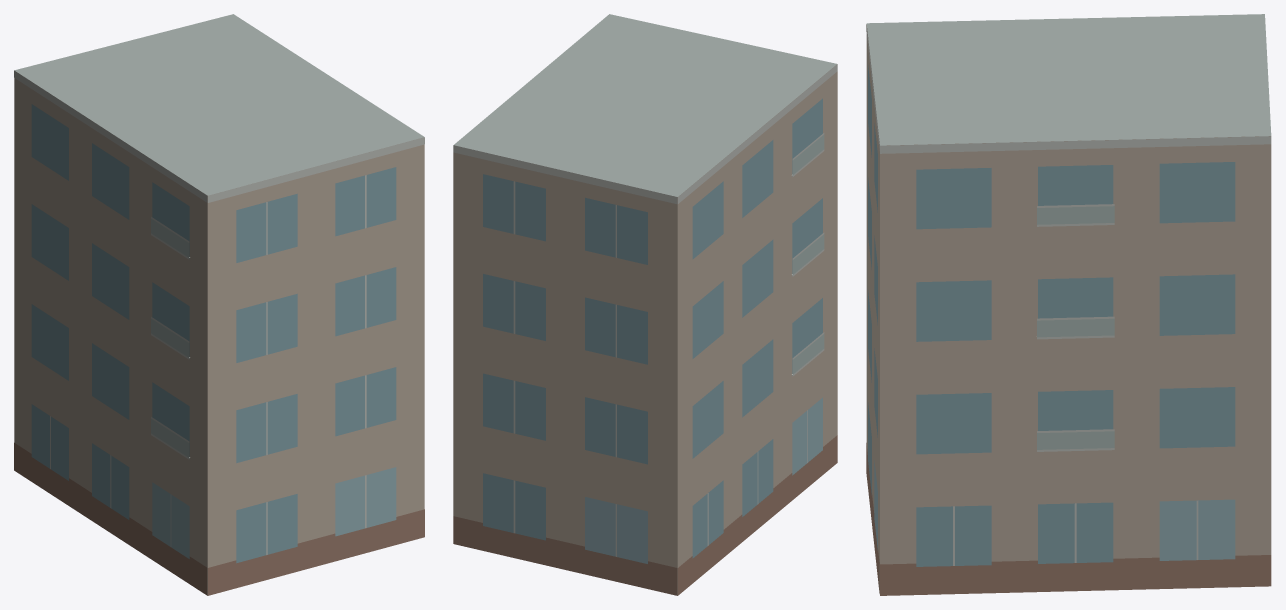
Rendered from survey-upis-32757108.glb.
3 views of the same model, side by side, from view 1: azimuth 30°, elevation 25°; view 2: azimuth 150°, elevation 25°; view 3: azimuth 270°, elevation 25° (orthographic). The views are drawn at different scales.
Visible parts, largest first — view 1: survey-upis-32757108.tmp; view 2: survey-upis-32757108.tmp; view 3: survey-upis-32757108.tmp.
Boxes of the visible parts, <box> form: survey-upis-32757108.tmp: <box>14,14,424,595</box>; survey-upis-32757108.tmp: <box>453,14,837,595</box>; survey-upis-32757108.tmp: <box>866,14,1271,595</box>.
Bounding box in the file's own units: 8.35 × 13.3 × 10.85.
